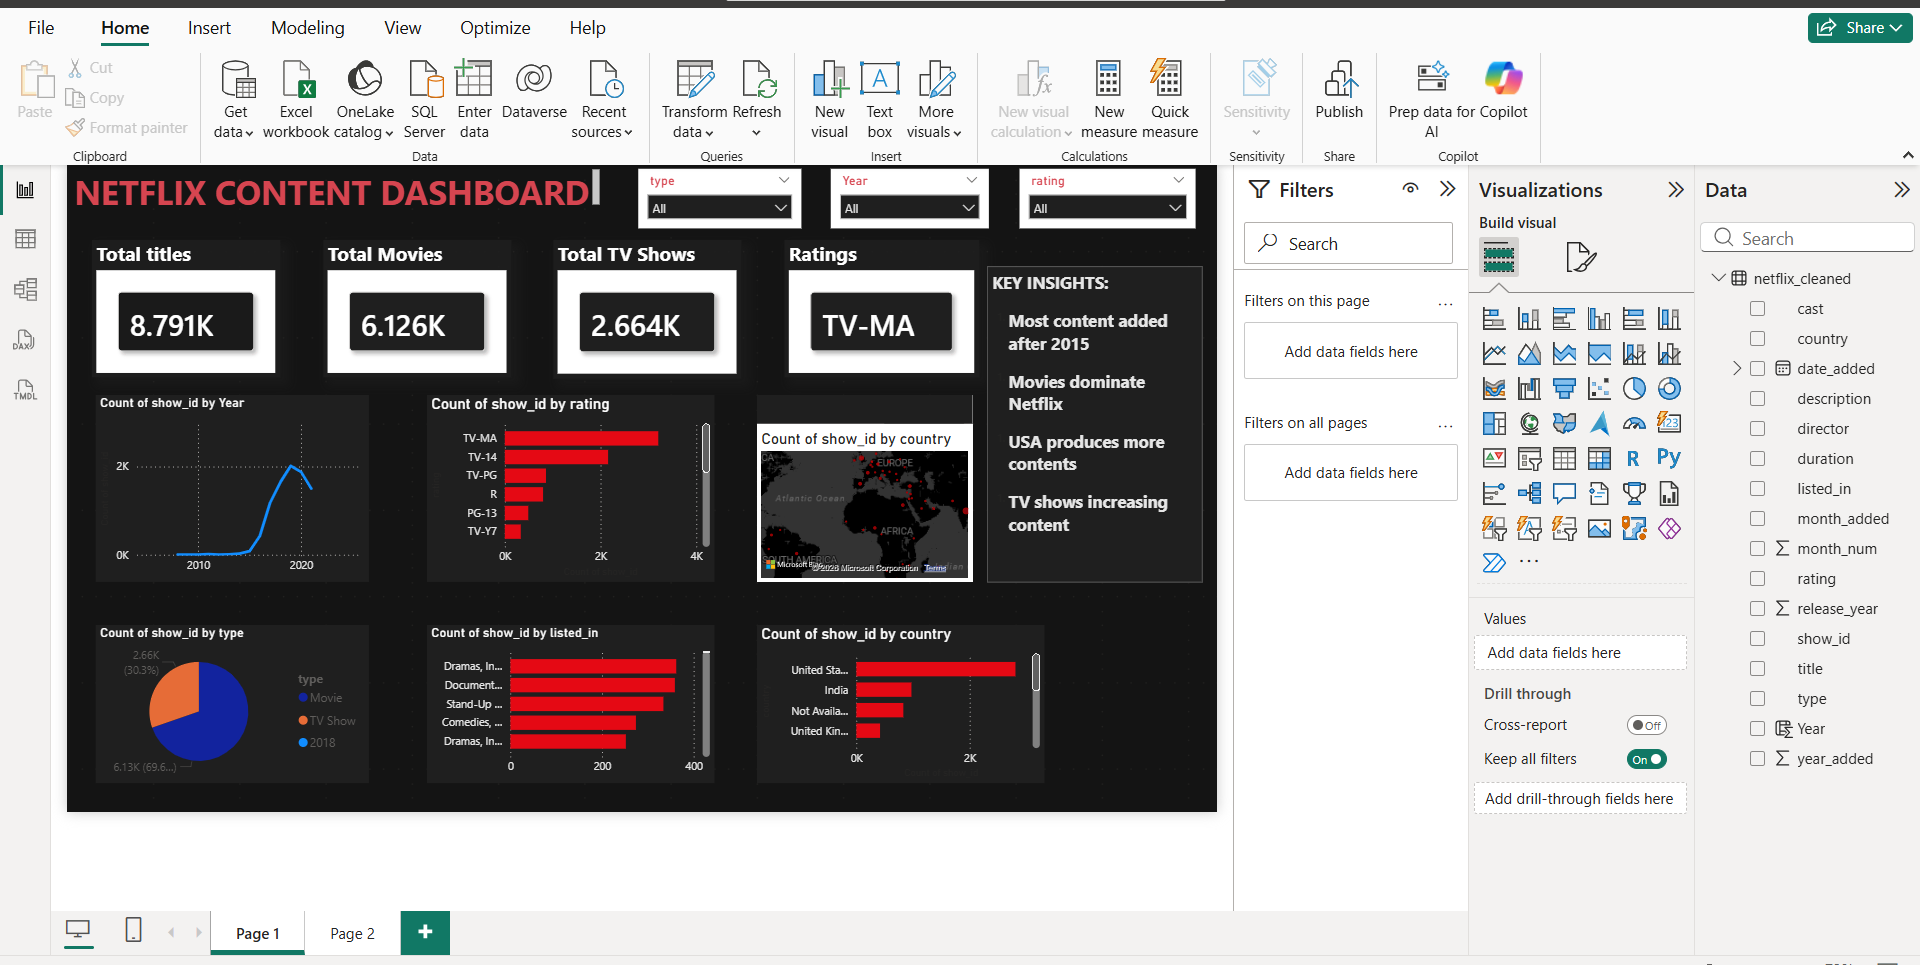

The page's visual inventory and layout, read from the dashboard file:
{"tool":"powerbi","page":{"name":"Page 1","canvas":[1280,720],"ordinal":0},"visuals":[{"type":"cardVisual","title":"Total titles","fields":{"Data":["Count(netflix_cleaned.show_id)"]},"box":[28.4,83.9,209.8,152.9],"z":0},{"type":"textbox","box":[0,0,598.2,54.1],"z":1000},{"type":"cardVisual","title":"Total Movies","fields":{"Data":["Count(netflix_cleaned.show_id)"]},"box":[285.1,83.9,209.8,152.9],"z":2000},{"type":"cardVisual","title":"Total TV Shows","fields":{"Data":["Count(netflix_cleaned.show_id)"]},"box":[541.8,83.9,209.8,154.3],"z":3000},{"type":"cardVisual","title":"Ratings","fields":{"Data":["Min(netflix_cleaned.rating)"]},"box":[798.5,83.9,216.5,152.9],"z":4000},{"type":"lineChart","fields":{"Category":["netflix_cleaned.Year"],"Y":["CountNonNull(netflix_cleaned.show_id)"]},"box":[32,256,304,208],"z":5000},{"type":"pieChart","fields":{"Category":["netflix_cleaned.type"],"Y":["CountNonNull(netflix_cleaned.show_id)"]},"box":[32,512,304,176],"z":6000},{"type":"barChart","fields":{"Y":["CountNonNull(netflix_cleaned.show_id)"],"Category":["netflix_cleaned.rating"]},"box":[400,256,320,208],"z":7000},{"type":"clusteredBarChart","fields":{"Category":["netflix_cleaned.listed_in"],"Y":["CountNonNull(netflix_cleaned.show_id)"]},"box":[400,512,320,176],"z":8000},{"type":"clusteredBarChart","fields":{"Category":["netflix_cleaned.country"],"Y":["CountNonNull(netflix_cleaned.show_id)"]},"box":[768,512,320,176],"z":9000},{"type":"slicer","fields":{"Values":["netflix_cleaned.type"]},"box":[636.1,4.1,181.3,66.3],"z":10000},{"type":"slicer","fields":{"Values":["netflix_cleaned.Year"]},"box":[850.6,4.1,175.9,66.3],"z":11000},{"type":"slicer","fields":{"Values":["netflix_cleaned.rating"]},"box":[1059.7,4.1,196.2,66.3],"z":12000},{"type":"textbox","box":[1024,112,240,352],"z":13000},{"type":"map","fields":{"Category":["netflix_cleaned.country"],"Size":["CountNonNull(netflix_cleaned.show_id)"]},"box":[768,256,240,208],"z":14000},{"type":"shape","box":[768,256,240,32],"z":15000}]}

Visuals, with their boxes on the page's 1280x720 design canvas (x1, y1, x2, y2). These are canvas units, not pixel positions in the 1920x965 screenshot, which may show the page scaled, cropped or inside an application window:
"Total titles" cardVisual: left=28, top=84, right=238, bottom=237
textbox: left=0, top=0, right=598, bottom=54
"Total Movies" cardVisual: left=285, top=84, right=495, bottom=237
"Total TV Shows" cardVisual: left=542, top=84, right=752, bottom=238
"Ratings" cardVisual: left=798, top=84, right=1015, bottom=237
lineChart - netflix_cleaned.Year x CountNonNull(netflix_cleaned.show_id): left=32, top=256, right=336, bottom=464
pieChart - netflix_cleaned.type x CountNonNull(netflix_cleaned.show_id): left=32, top=512, right=336, bottom=688
barChart - CountNonNull(netflix_cleaned.show_id) x netflix_cleaned.rating: left=400, top=256, right=720, bottom=464
clusteredBarChart - netflix_cleaned.listed_in x CountNonNull(netflix_cleaned.show_id): left=400, top=512, right=720, bottom=688
clusteredBarChart - netflix_cleaned.country x CountNonNull(netflix_cleaned.show_id): left=768, top=512, right=1088, bottom=688
slicer - netflix_cleaned.type: left=636, top=4, right=817, bottom=70
slicer - netflix_cleaned.Year: left=851, top=4, right=1026, bottom=70
slicer - netflix_cleaned.rating: left=1060, top=4, right=1256, bottom=70
textbox: left=1024, top=112, right=1264, bottom=464
map - netflix_cleaned.country x CountNonNull(netflix_cleaned.show_id): left=768, top=256, right=1008, bottom=464
shape: left=768, top=256, right=1008, bottom=288
